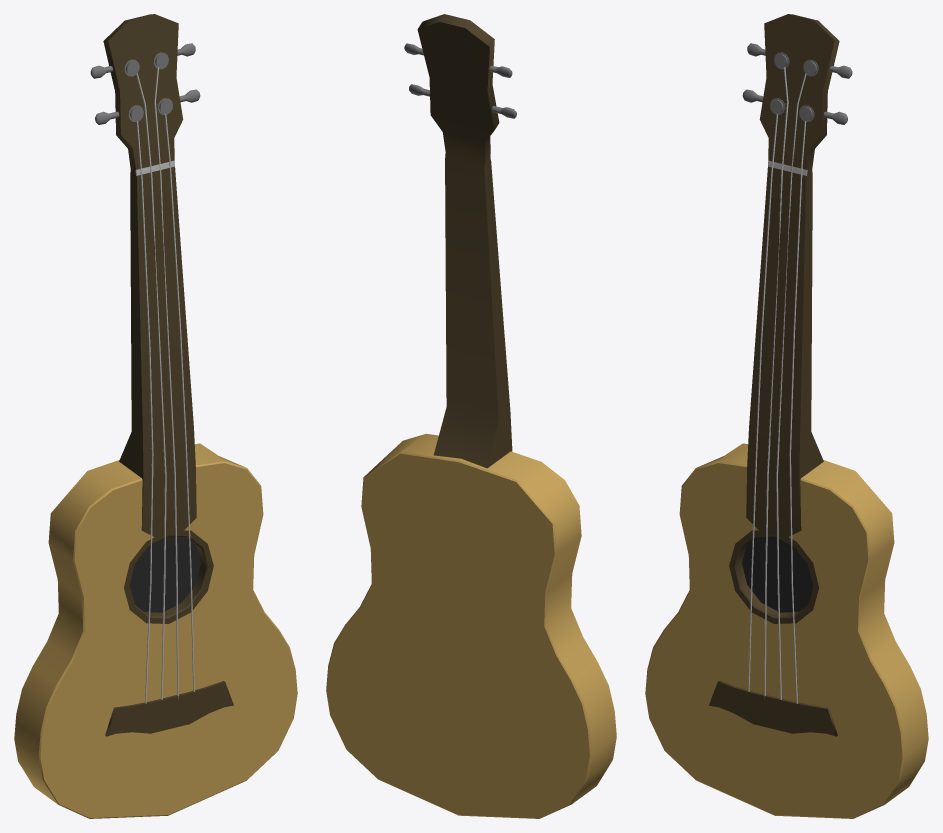
File: Ukulele.fbx
The picture shows the model from 3 angles, left to right: view 1: azimuth 30°, elevation 25°; view 2: azimuth 150°, elevation 25°; view 3: azimuth 330°, elevation 25°; orthographic projection. The views are drawn at different scales.
Visible parts, largest first — view 1: Ukulele; view 2: Ukulele; view 3: Ukulele.
Boxes of the visible parts, x1,y1,x2,y2 form: Ukulele: (14, 14, 297, 818); Ukulele: (326, 14, 616, 818); Ukulele: (645, 14, 928, 818).
Bounding box in the file's own units: 27.98 × 80.49 × 6.35.
